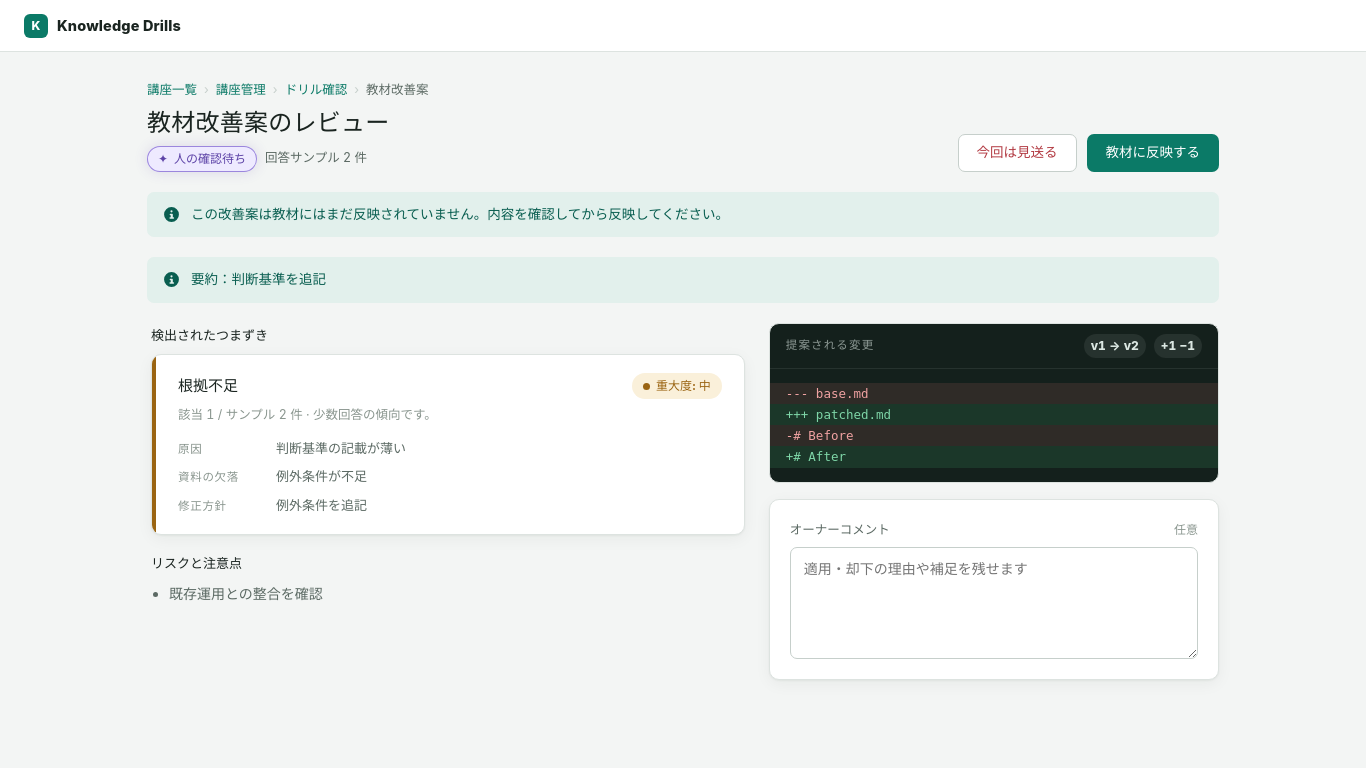
Scenario: PatchReviewPage › applies patch with owner feedback
Check: the text "人の確認待ち" is shown, box [147,146,257,172]
Step 1. Type "反映します" into the text box labelled "オーナーコメント 任意" → (994, 603), box [790,547,1198,659]
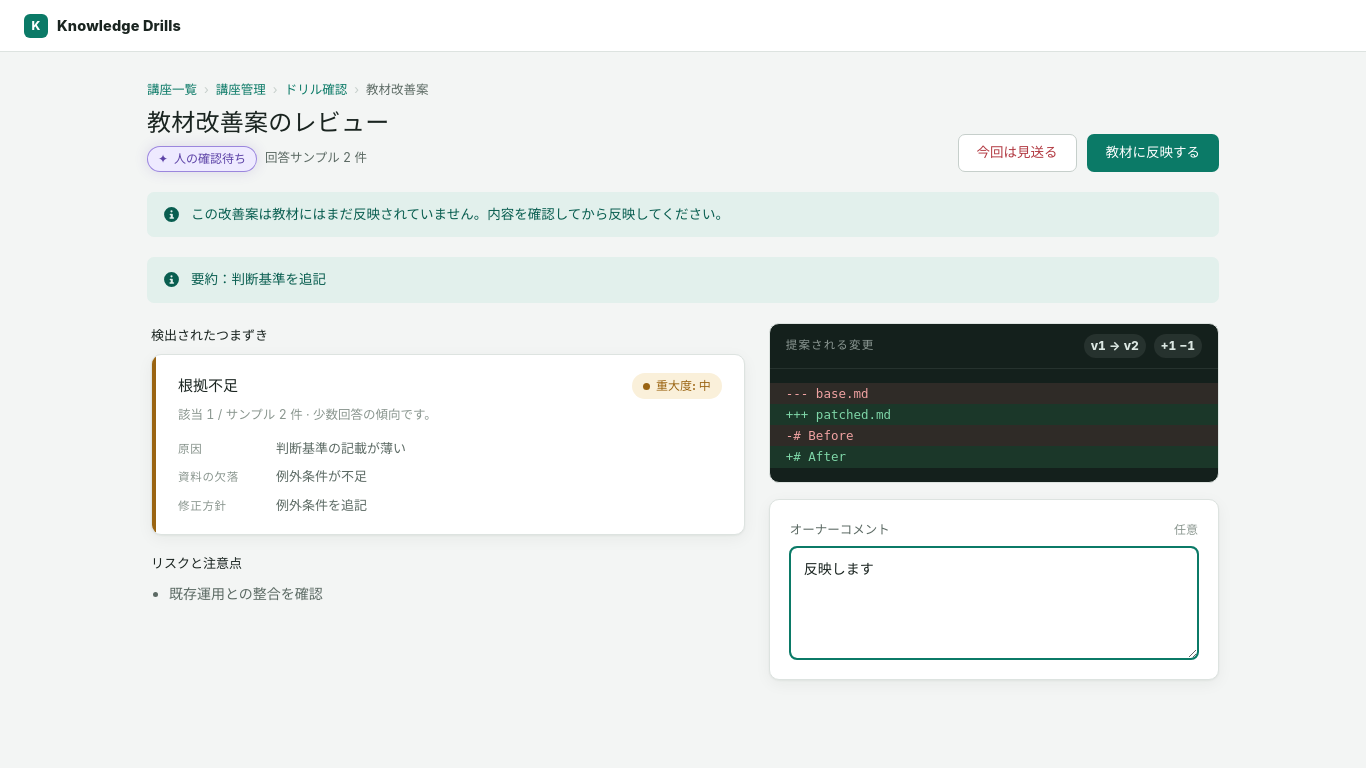
Step 2. Click the button "教材に反映する" → (1153, 153), box [1086,134,1219,172]
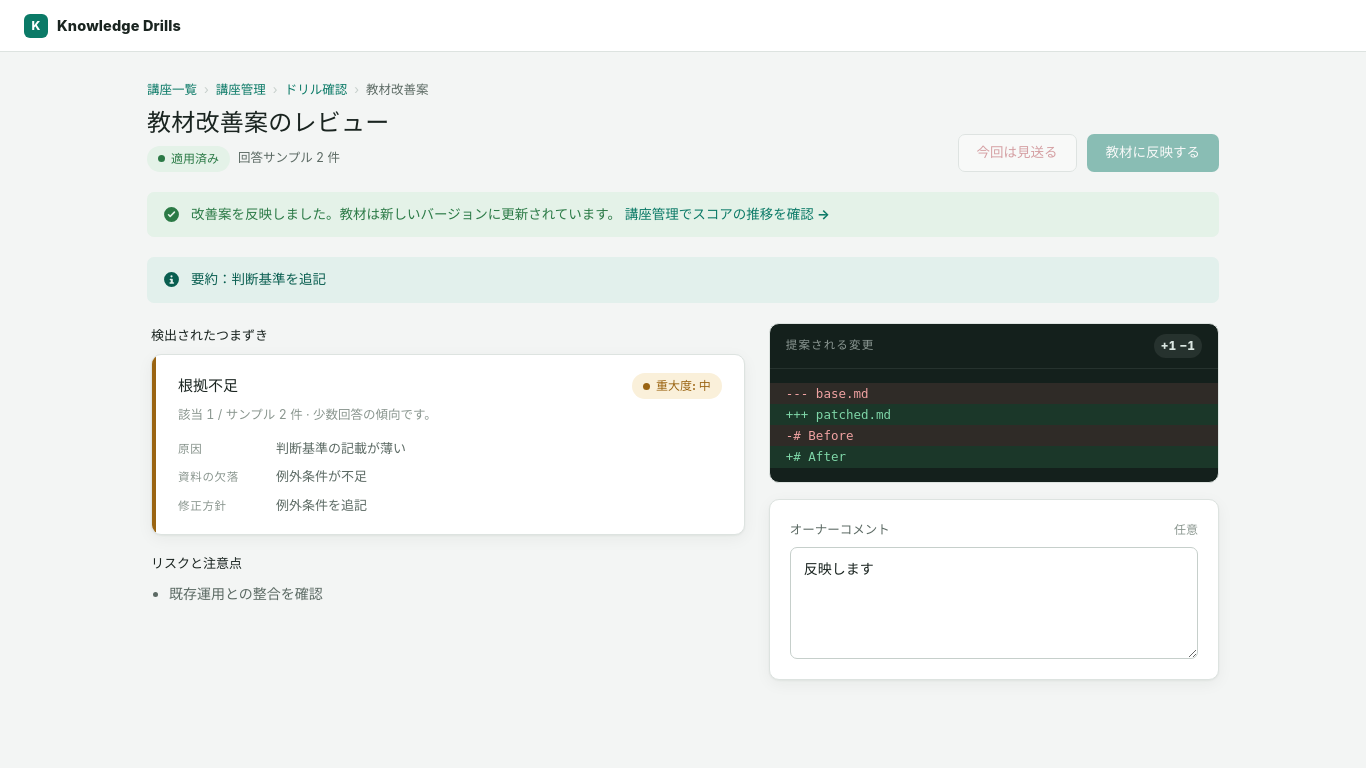
Check: the text "改善案を反映しました。教材は新しいバージョンに更新されています。 講座管理でスコアの推移を確認 →" is shown, box [191,204,830,225]
